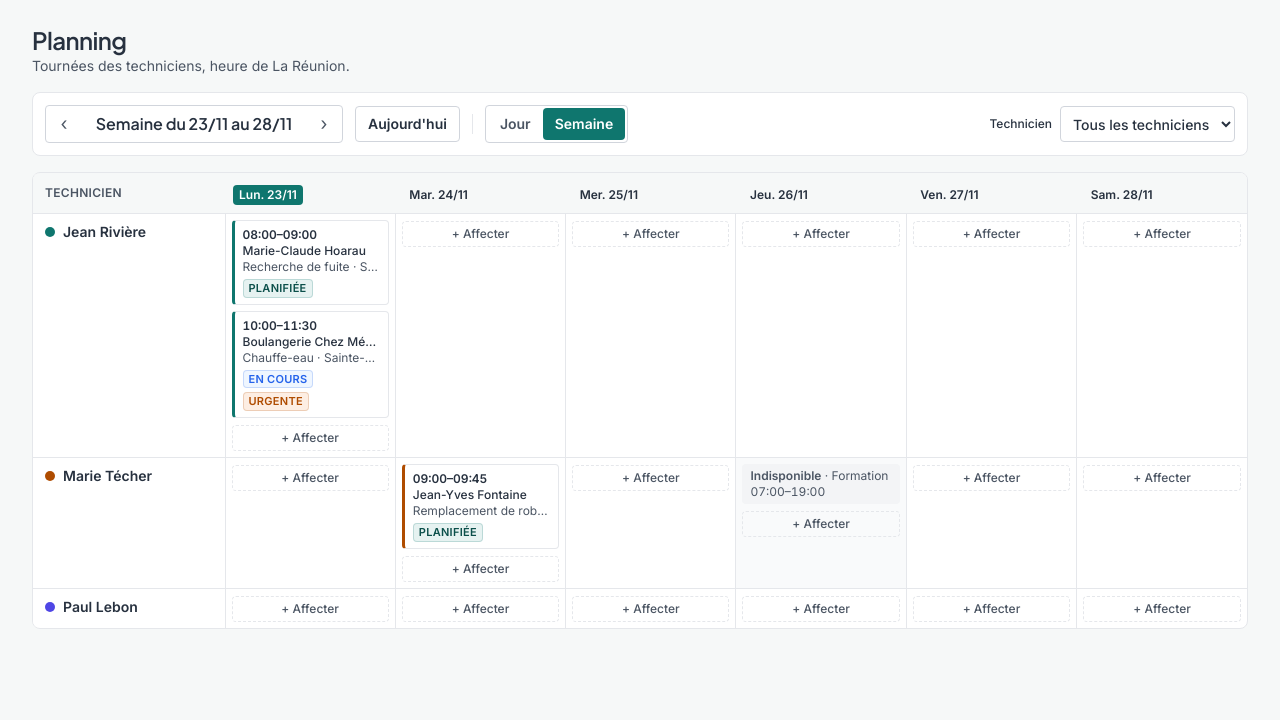
Test: affectation d'une intervention à une tournée › ferme la fenêtre sans rien envoyer avec « Annuler » ou la touche Échap
Click the 6th button "+ Affecter" at (310, 438), box [232,425,389,451]
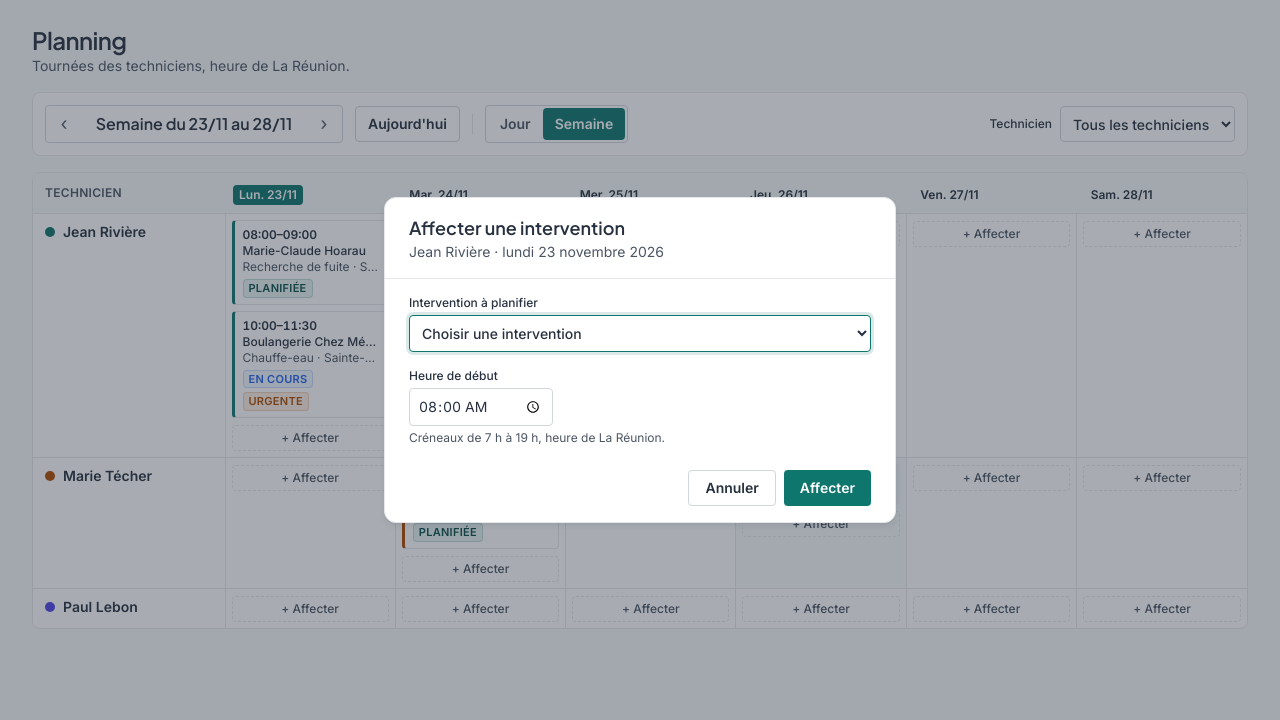
Check: the dropdown labelled "Intervention à planifier" is shown, box [409,315,871,352]
Click the button "Annuler" at (732, 488), box [688,470,776,506]
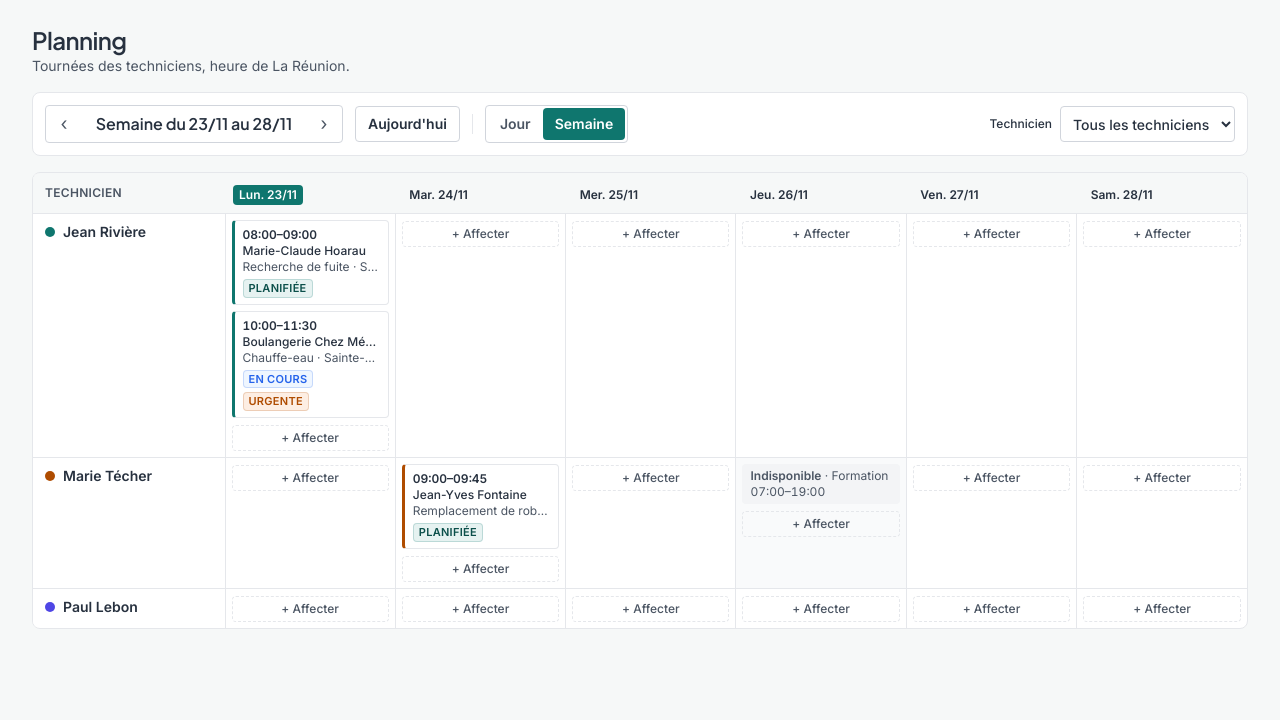
Check: the dialog is gone
Click the button named "Affecter une intervention à Jean Rivière le mardi 24 novembre 2026" at (480, 234), box [402,221,559,247]
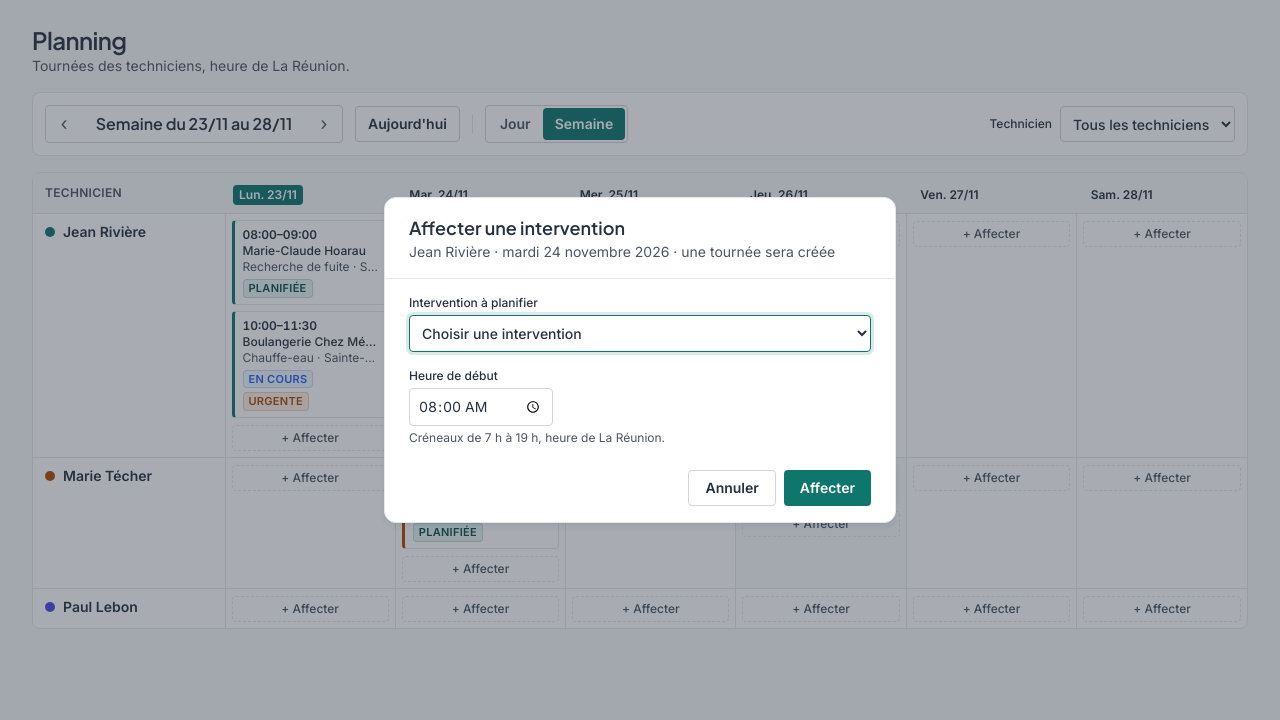
Check: the dialog is shown, box [384,197,896,523]
Press Escape
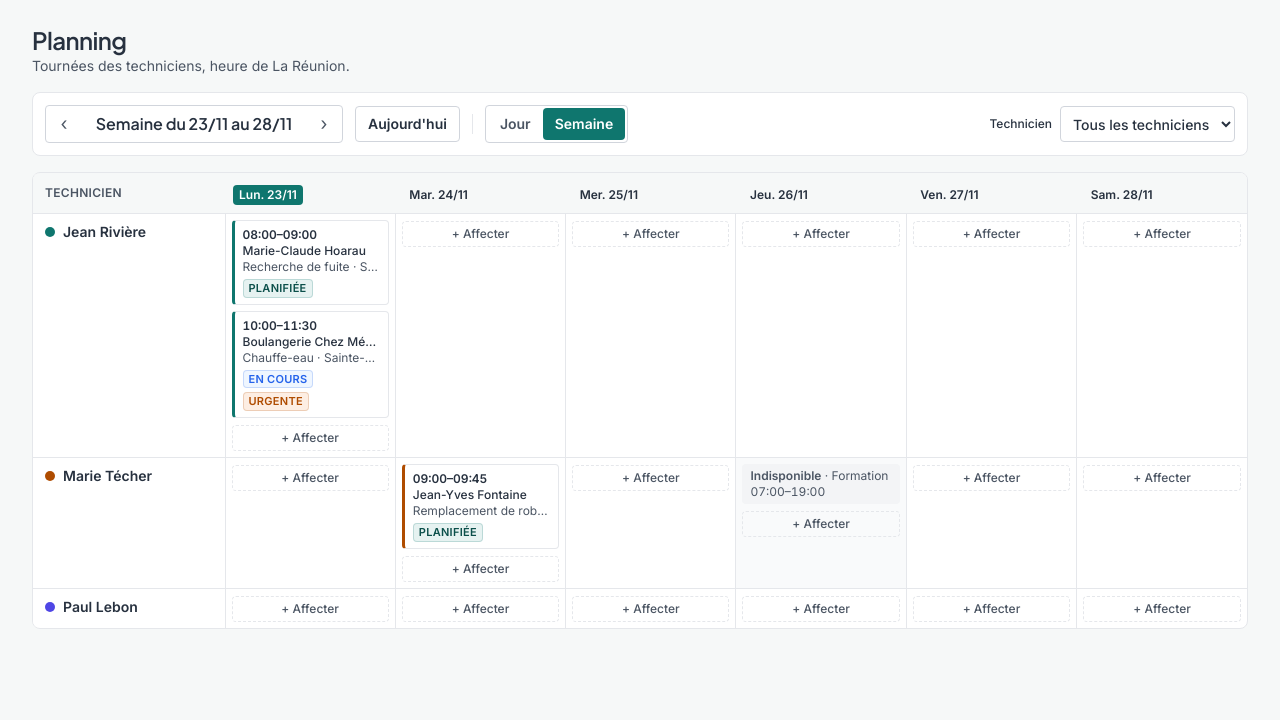
Check: the dialog is gone
